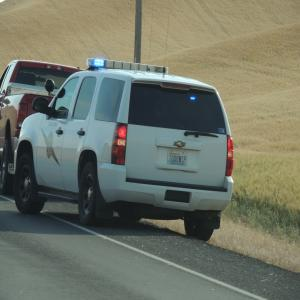Vehicle-registration-plate: (168, 150, 189, 166)
